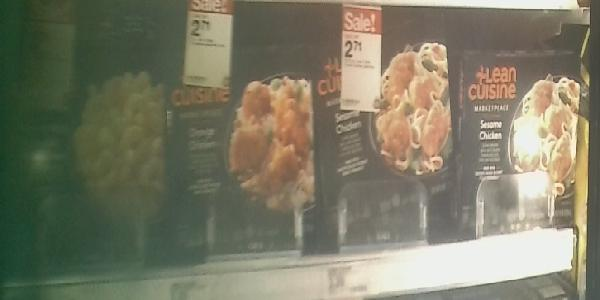pizza1: (5, 4, 169, 262), (172, 25, 315, 263), (318, 39, 460, 244), (460, 51, 577, 228)
